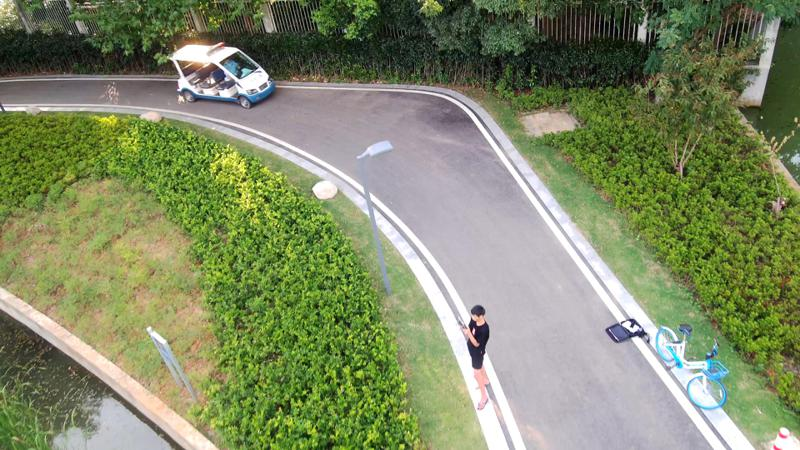passerby: (459, 304, 491, 412)
